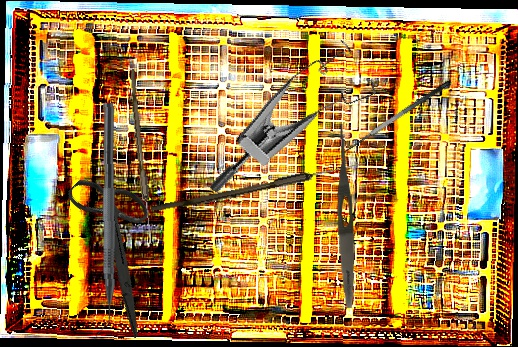Chopper: (87, 103, 119, 340)
Dressing Forceps: (331, 122, 359, 309)
Iris Scissors: (26, 158, 208, 340)
Spatula Surgical: (337, 79, 457, 164)
Speculum: (206, 19, 391, 237)
Surgical Spoon: (150, 157, 368, 217), (126, 69, 156, 245)
